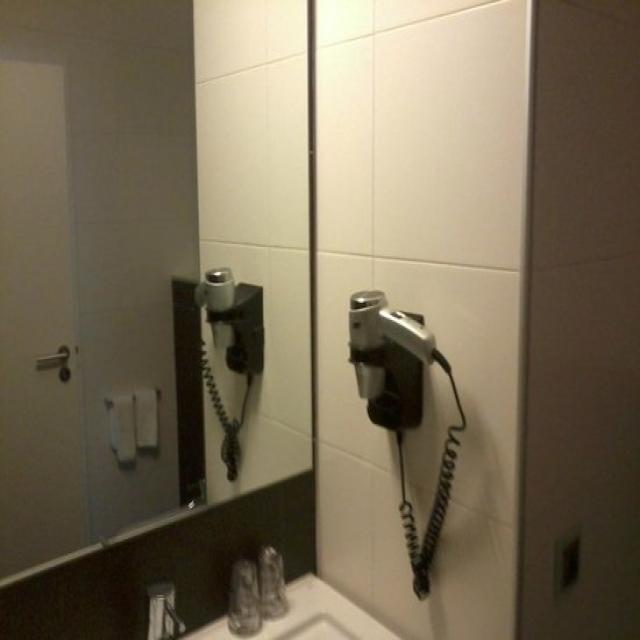dryer: (344, 280, 453, 403)
